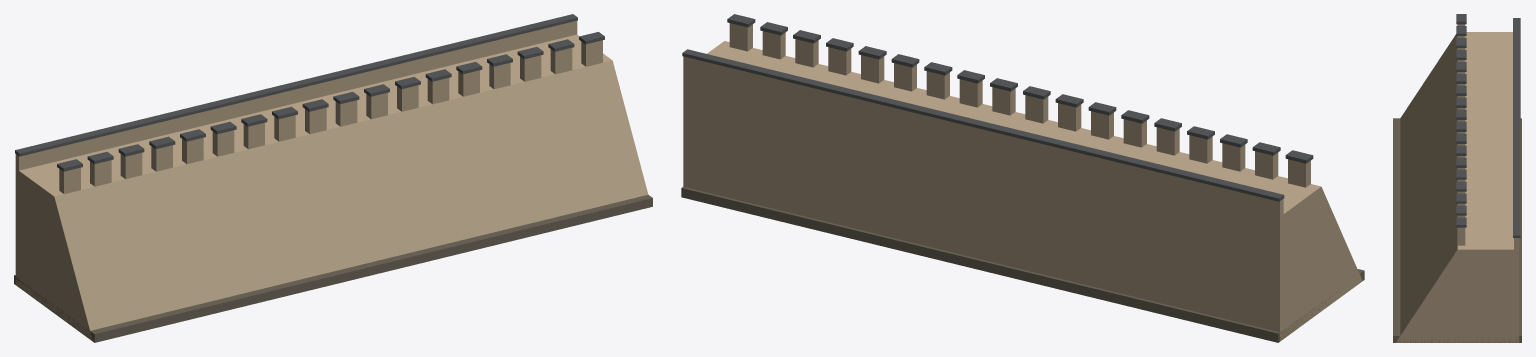
File: K01_far.glb
3 views of the same model, side by side, from view 1: azimuth 30°, elevation 25°; view 2: azimuth 150°, elevation 25°; view 3: azimuth 270°, elevation 25° (orthographic). The views are drawn at different scales.
Parts seen in each view (by area): view 1: K01_far; view 2: K01_far; view 3: K01_far.
Part boxes in pixels (x1,y1,x2,y2): K01_far: [14, 14, 652, 342]; K01_far: [681, 14, 1364, 342]; K01_far: [1393, 14, 1521, 342].
Bounding box in the file's own units: 40 × 9.82 × 10.
